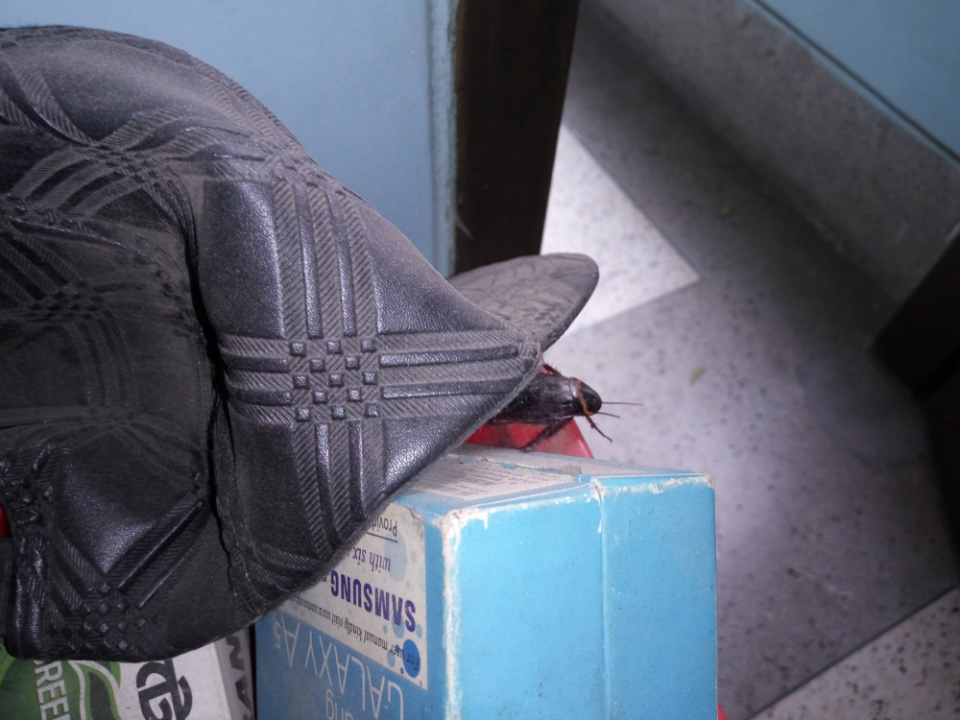cockroach: (479, 367, 660, 454)
